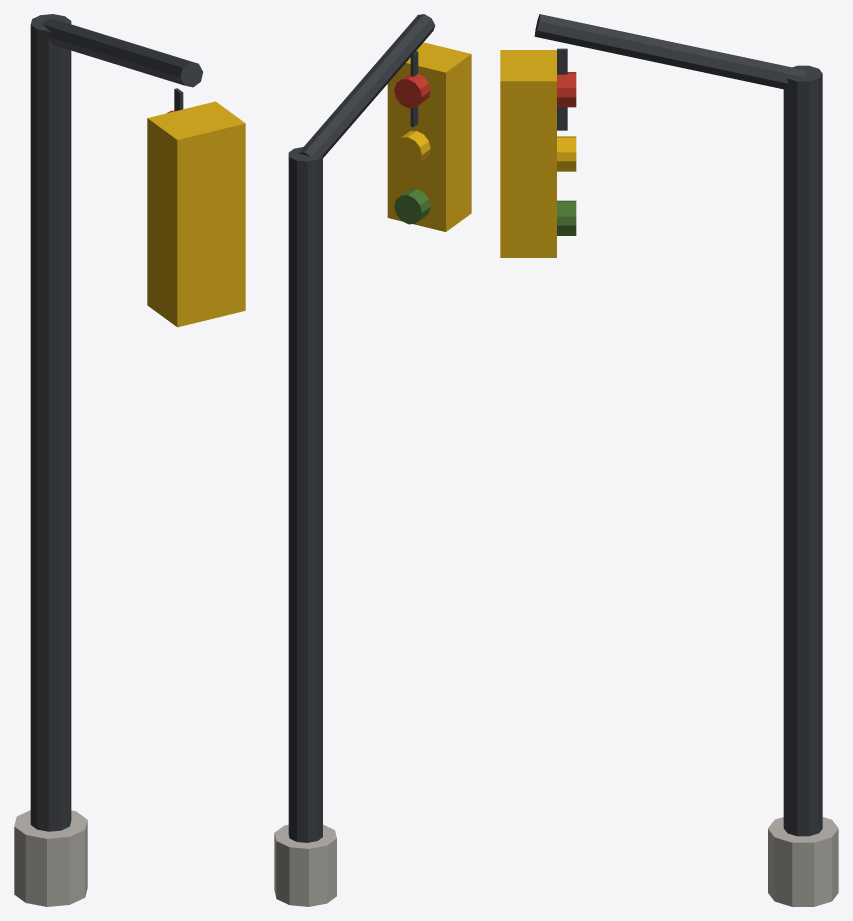
Rendered from PRP_TrafficLight.fbx.
3 renders of one model, left to right at view 1: azimuth 30°, elevation 25°; view 2: azimuth 150°, elevation 25°; view 3: azimuth 270°, elevation 25°, orthographic. The views are drawn at different scales.
Parts seen in each view (by area): view 1: PRP_TrafficLight__BODY; view 2: PRP_TrafficLight__BODY, PRP_TrafficLight__SIG_G, PRP_TrafficLight__SIG_Y, PRP_TrafficLight__SIG_R; view 3: PRP_TrafficLight__BODY, PRP_TrafficLight__SIG_Y, PRP_TrafficLight__SIG_G, PRP_TrafficLight__SIG_R.
Part boxes in pixels (x1=…): PRP_TrafficLight__BODY: x1=14, y1=14, x2=245, y2=906; PRP_TrafficLight__BODY: x1=274, y1=14, x2=471, y2=906; PRP_TrafficLight__SIG_G: x1=394, y1=189, x2=430, y2=224; PRP_TrafficLight__SIG_Y: x1=394, y1=131, x2=430, y2=166; PRP_TrafficLight__SIG_R: x1=394, y1=73, x2=430, y2=108; PRP_TrafficLight__BODY: x1=500, y1=14, x2=838, y2=906; PRP_TrafficLight__SIG_Y: x1=557, y1=136, x2=576, y2=171; PRP_TrafficLight__SIG_G: x1=557, y1=200, x2=576, y2=235; PRP_TrafficLight__SIG_R: x1=557, y1=72, x2=576, y2=107.
Size of the model in its own units: 0.42 by 5.47 by 1.91.
